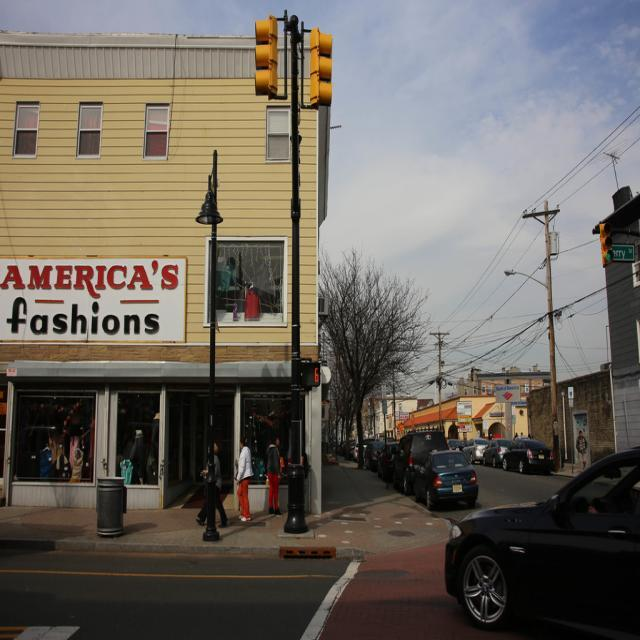off traffic light: (254, 16, 278, 96), (311, 25, 333, 107)
